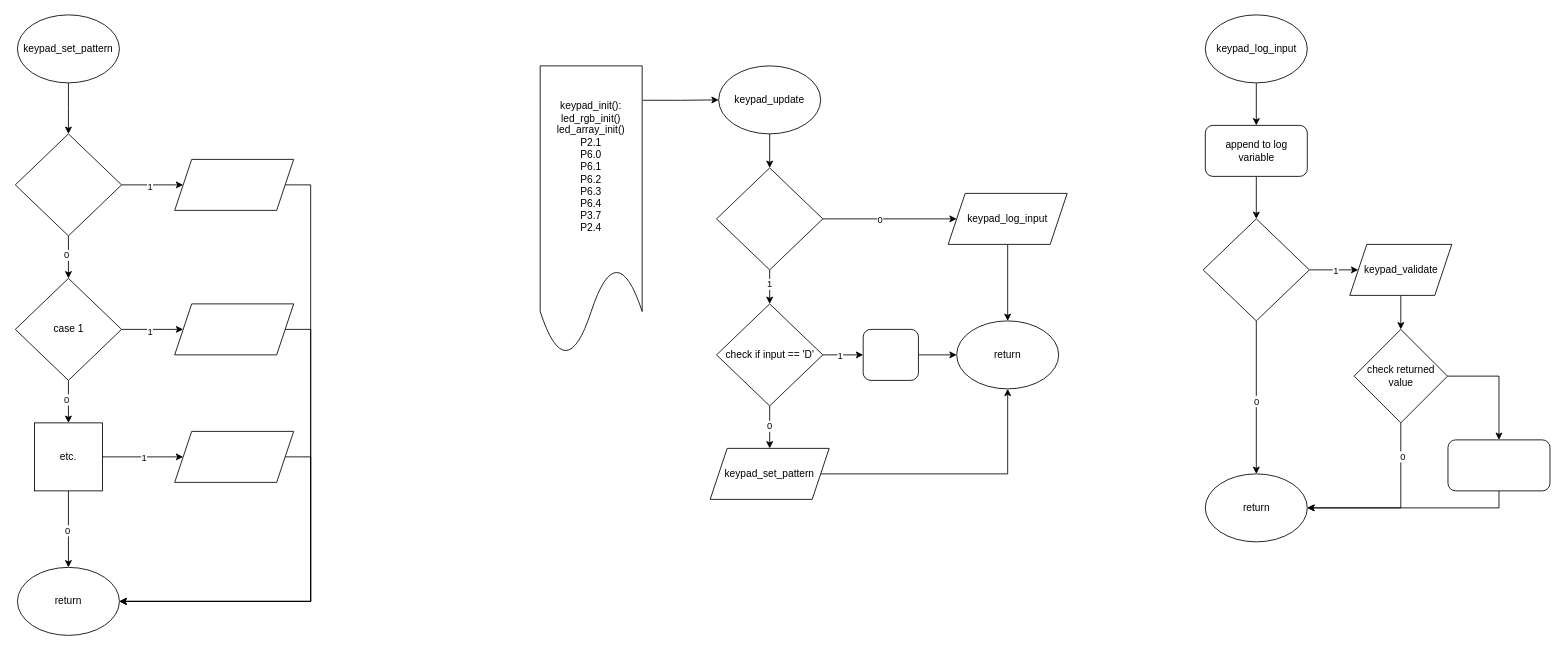
Some shapes in this 1565 by 650 pixel diagram are drawn without their labels. Each missing label, with the box of its shape:
case 0: (14, 133, 122, 236)
check if 4th logged (4 digit): (1202, 218, 1309, 321)
check if unlocked: (716, 167, 823, 270)
led_array_pattern0: (174, 159, 294, 210)
led_array_pattern1: (174, 303, 294, 355)
led_array_patternN: (174, 431, 294, 482)
lock: (862, 329, 918, 380)
unlock: (1447, 439, 1550, 491)
